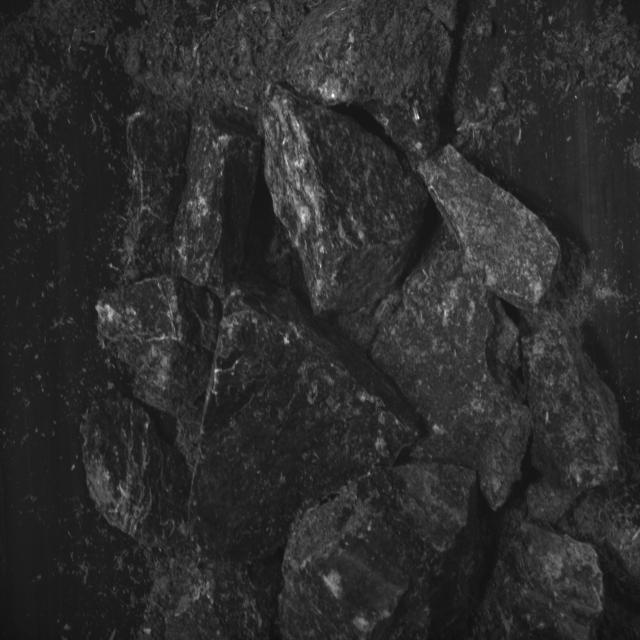Stones: (191, 286, 419, 561), (372, 226, 531, 510), (264, 86, 429, 316), (280, 463, 482, 640), (522, 313, 640, 604), (286, 1, 457, 161), (97, 276, 222, 463), (420, 145, 561, 309), (82, 398, 191, 548), (174, 118, 261, 298), (477, 523, 605, 640)
